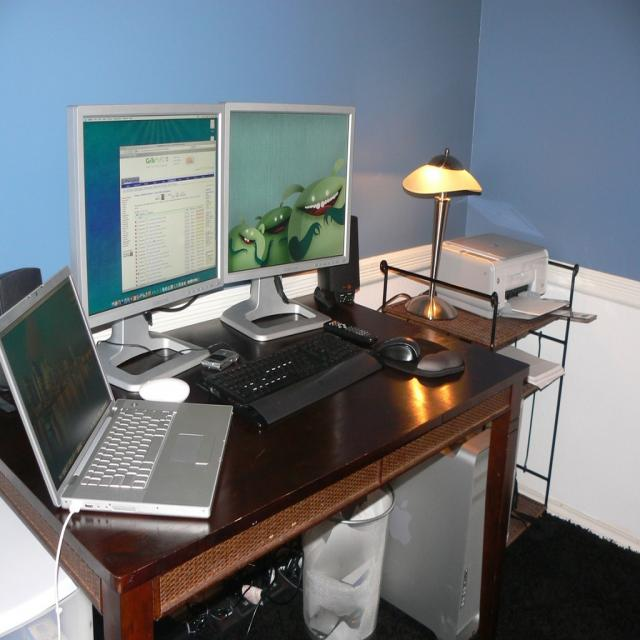chair: (0, 267, 43, 315)
desk: (0, 296, 527, 640)
keyboard: (199, 327, 383, 428)
laptop: (1, 264, 232, 518)
mouse: (140, 378, 190, 403), (378, 336, 422, 364)
tv: (66, 104, 226, 333), (224, 104, 357, 287)
